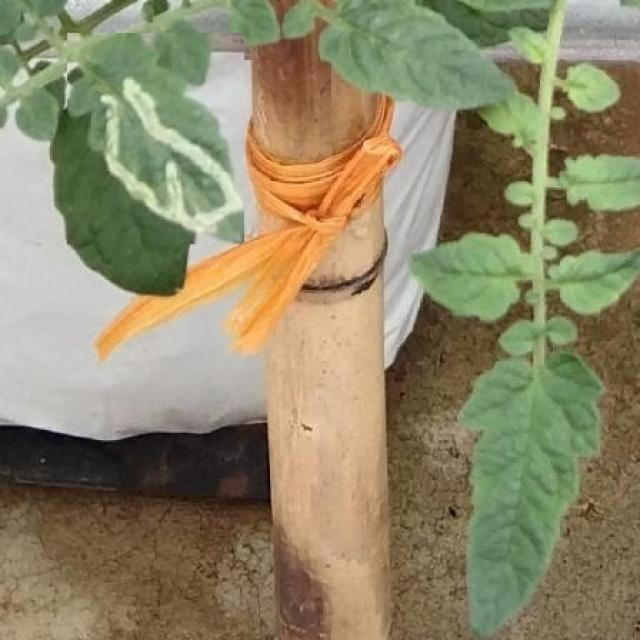Leaf Miner: (68, 34, 245, 245)
